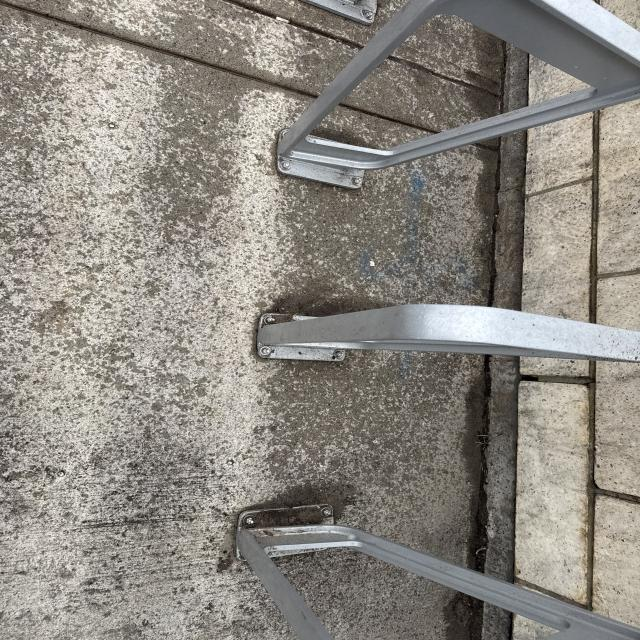Bicycle Rack: (276, 1, 639, 186), (234, 500, 634, 640), (256, 301, 638, 373)
